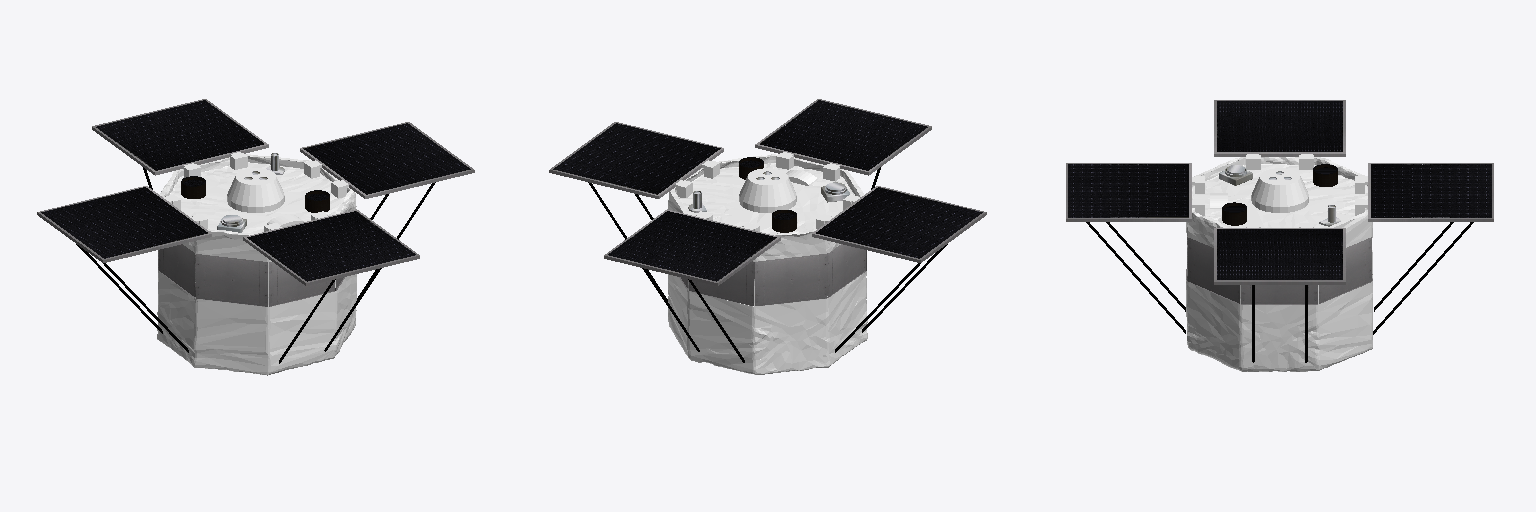
The picture shows the model from 3 angles: view 1: azimuth 30°, elevation 25°; view 2: azimuth 150°, elevation 25°; view 3: azimuth 270°, elevation 25°; orthographic projection.
Parts seen in each view (by area): view 1: obj3, obj2, obj4, obj1; view 2: obj3, obj2, obj4, obj1; view 3: obj3, obj2, obj4, obj1.
Part boxes in pixels (left/top/right/bottom): obj3: left=41, top=100, right=470, bottom=281; obj2: left=157, top=152, right=356, bottom=375; obj4: left=37, top=99, right=474, bottom=306; obj1: left=76, top=167, right=435, bottom=363; obj3: left=553, top=100, right=982, bottom=281; obj2: left=668, top=152, right=867, bottom=374; obj4: left=549, top=99, right=986, bottom=306; obj1: left=588, top=167, right=947, bottom=362; obj3: left=1068, top=101, right=1491, bottom=279; obj2: left=1186, top=154, right=1372, bottom=371; obj4: left=1066, top=100, right=1493, bottom=304; obj1: left=1086, top=222, right=1473, bottom=362.
Size of the model in its own units: 1.8 by 0.7335 by 1.8.
4 materials, 1 textured.